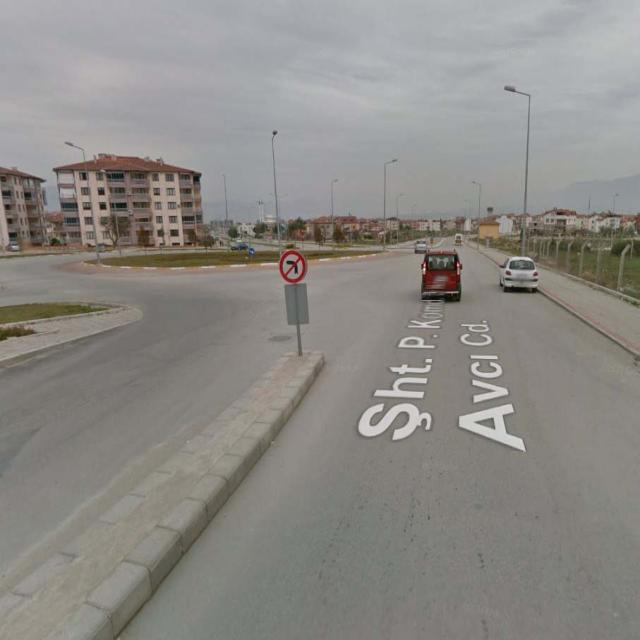soladonulmez: (281, 252, 305, 283)
